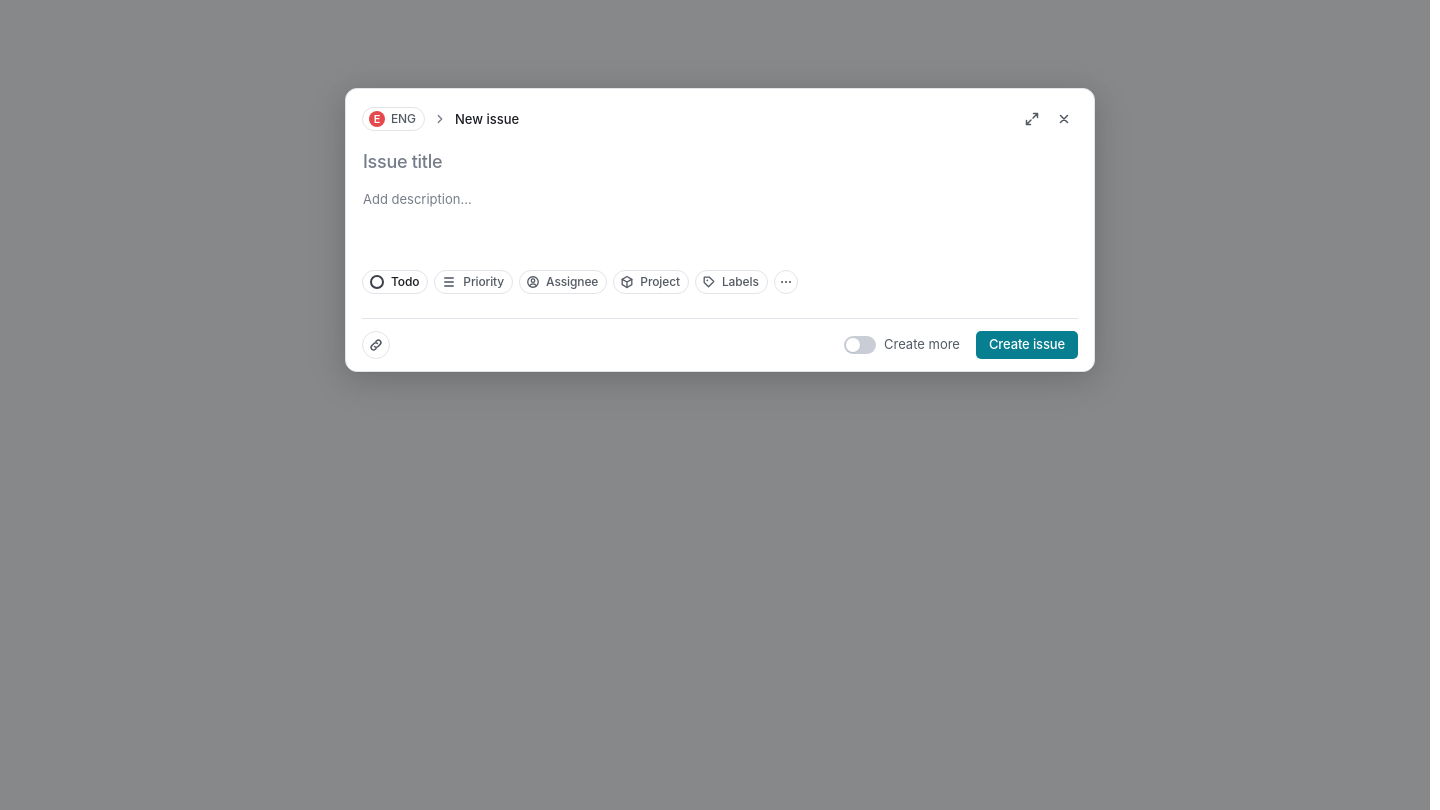
Test case: CreateIssueModal pills › teaches the chord that opens a picker in its filter row
The width and height of the screenshot is (1440, 810).
Click the button "Todo" at (395, 282), box [362,270,428,294]
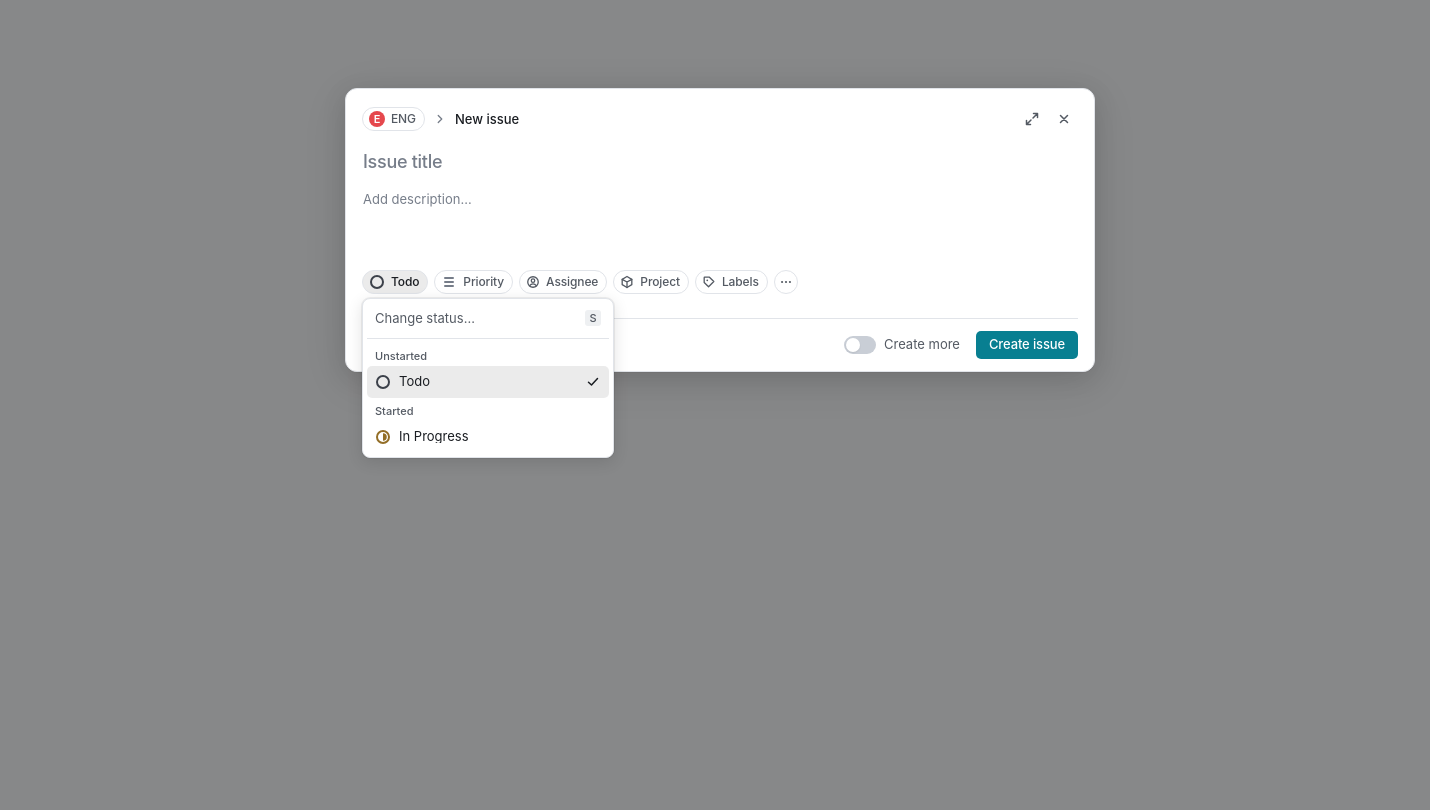
Result: the text "S" is shown at [585,310,601,326]
